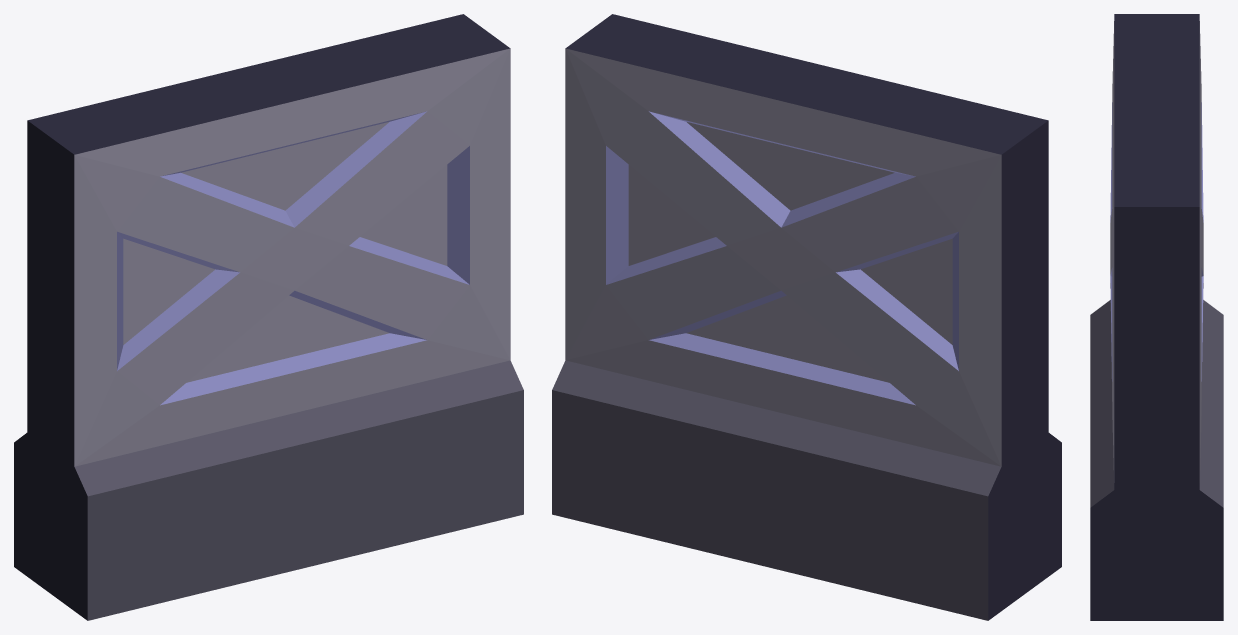
Rendered from WallPanelCross.fbx.
The picture shows the model from 3 angles, left to right: view 1: azimuth 30°, elevation 25°; view 2: azimuth 150°, elevation 25°; view 3: azimuth 270°, elevation 25°; orthographic projection. The views are drawn at different scales.
Visible parts, largest first — view 1: WallPanelCross; view 2: WallPanelCross; view 3: WallPanelCross.
Boxes of the visible parts, x1,y1,x2,y2 form: WallPanelCross: [14, 14, 523, 620]; WallPanelCross: [552, 14, 1061, 620]; WallPanelCross: [1090, 14, 1223, 620].
Bounding box in the file's own units: 200 × 200 × 58.52.
